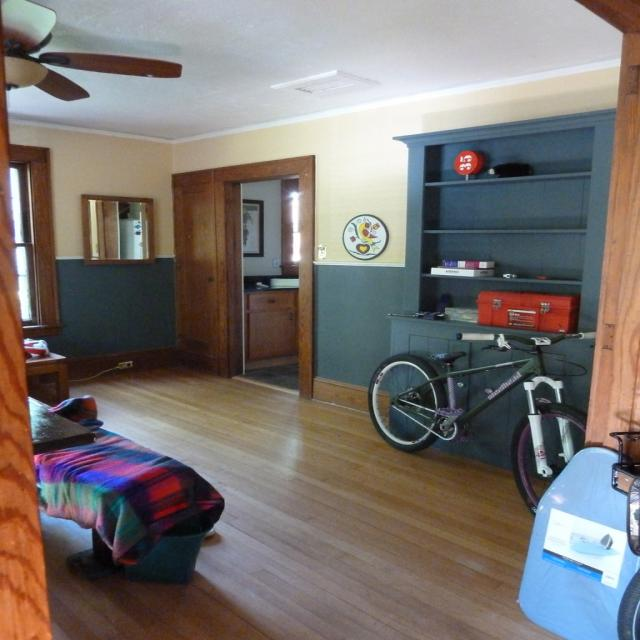Bulb: (0, 11, 178, 124)
